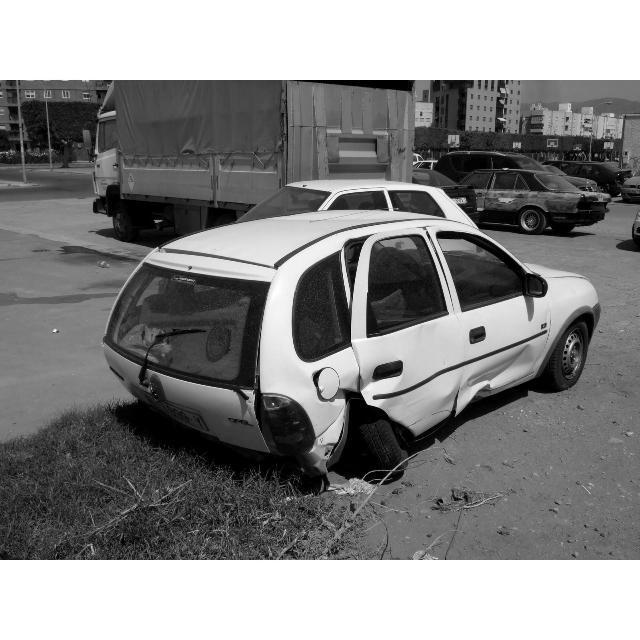doorouter-dent: (351, 331, 458, 443), (462, 307, 544, 404)
quaterpanel-dent: (259, 359, 354, 453)
